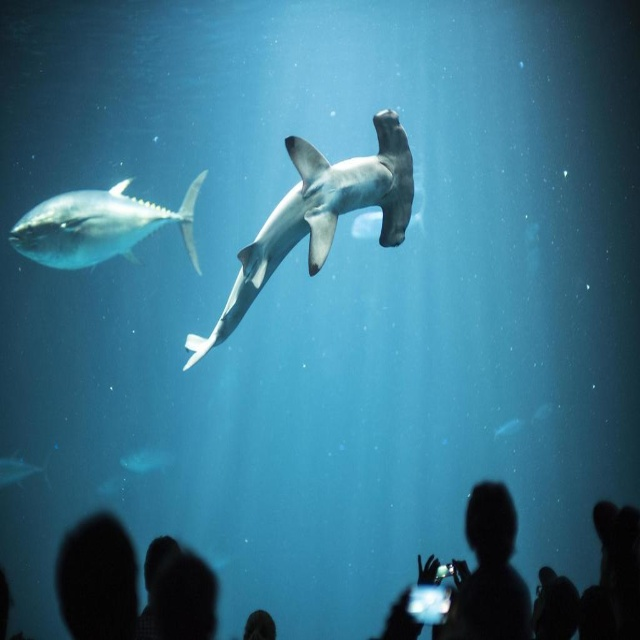Shark: (184, 108, 414, 375), (9, 170, 205, 273)
